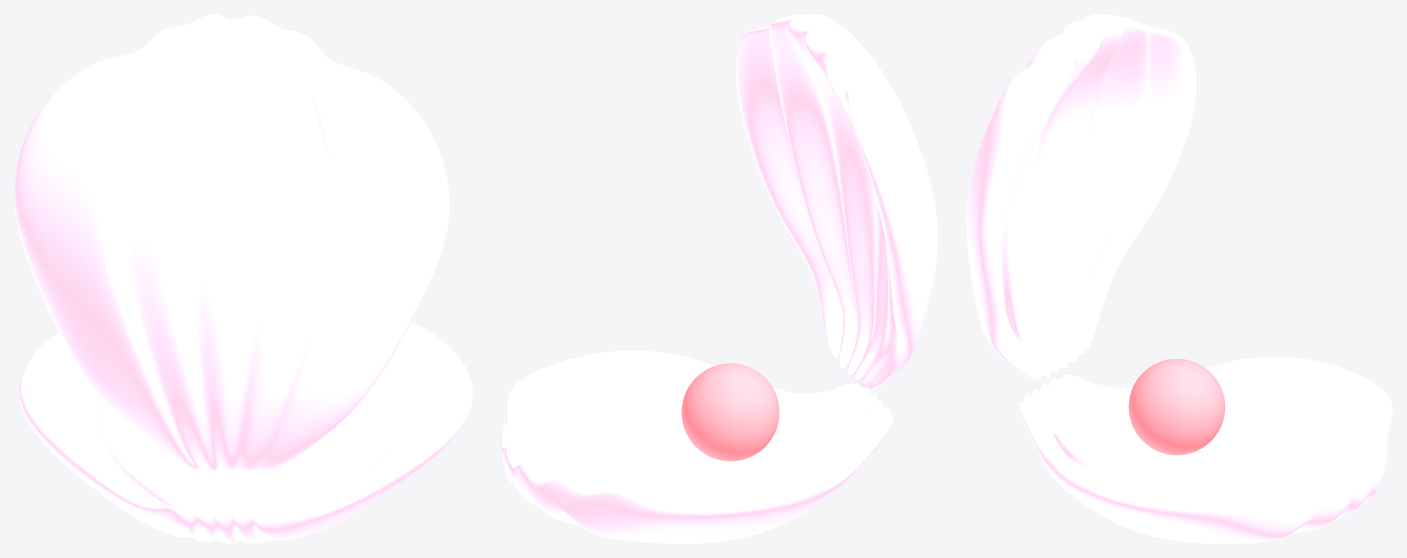
Rendered from clamshell.gltf.
3 renders of one model, left to right at view 1: azimuth 30°, elevation 25°; view 2: azimuth 150°, elevation 25°; view 3: azimuth 270°, elevation 25°, orthographic. The views are drawn at different scales.
Visible parts, largest first — view 1: Top Shell, Bottom Shell; view 2: Bottom Shell, Top Shell, Pearl; view 3: Top Shell, Bottom Shell, Pearl.
Boxes of the visible parts, x1,y1,x2,y2 form: Top Shell: (14, 14, 449, 472); Bottom Shell: (19, 322, 472, 543); Bottom Shell: (501, 350, 892, 543); Top Shell: (736, 14, 937, 390); Pearl: (681, 363, 779, 461); Top Shell: (966, 14, 1196, 380); Bottom Shell: (1018, 356, 1392, 543); Pearl: (1128, 358, 1225, 455).
Size of the model in its own units: 1.08 by 1.29 by 1.08.
